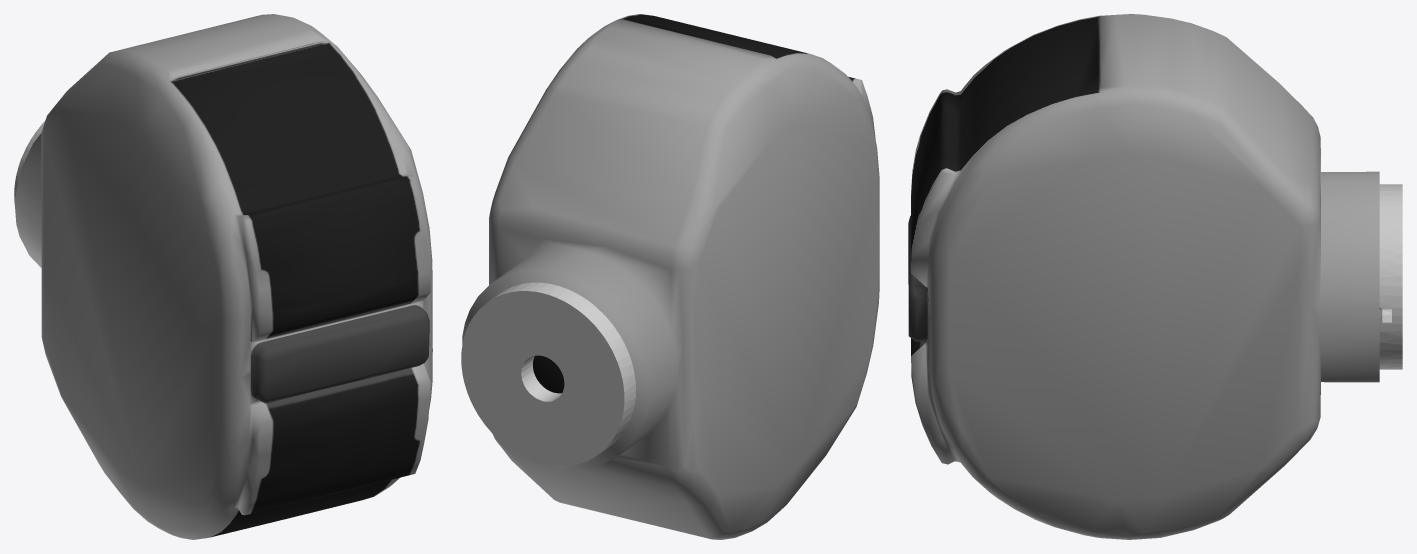
Rendered from r_wrist_roll_link.OBJ.
3 renders of one model, left to right at view 1: azimuth 30°, elevation 25°; view 2: azimuth 150°, elevation 25°; view 3: azimuth 270°, elevation 25°, orthographic.
Parts seen in each view (by area): view 1: /ambf/env/pr2/r_wrist_roll_link_/ambf/env/pr2/r_wrist_roll_link_; view 2: /ambf/env/pr2/r_wrist_roll_link_/ambf/env/pr2/r_wrist_roll_link_; view 3: /ambf/env/pr2/r_wrist_roll_link_/ambf/env/pr2/r_wrist_roll_link_.
Part boxes in pixels (left/top/right/bottom): /ambf/env/pr2/r_wrist_roll_link_/ambf/env/pr2/r_wrist_roll_link_: left=14, top=14, right=432, bottom=539; /ambf/env/pr2/r_wrist_roll_link_/ambf/env/pr2/r_wrist_roll_link_: left=461, top=14, right=879, bottom=539; /ambf/env/pr2/r_wrist_roll_link_/ambf/env/pr2/r_wrist_roll_link_: left=908, top=14, right=1402, bottom=539.
Bounding box in the file's own units: 0.0485 × 0.102 × 0.1008.
2 materials, 1 textured.
